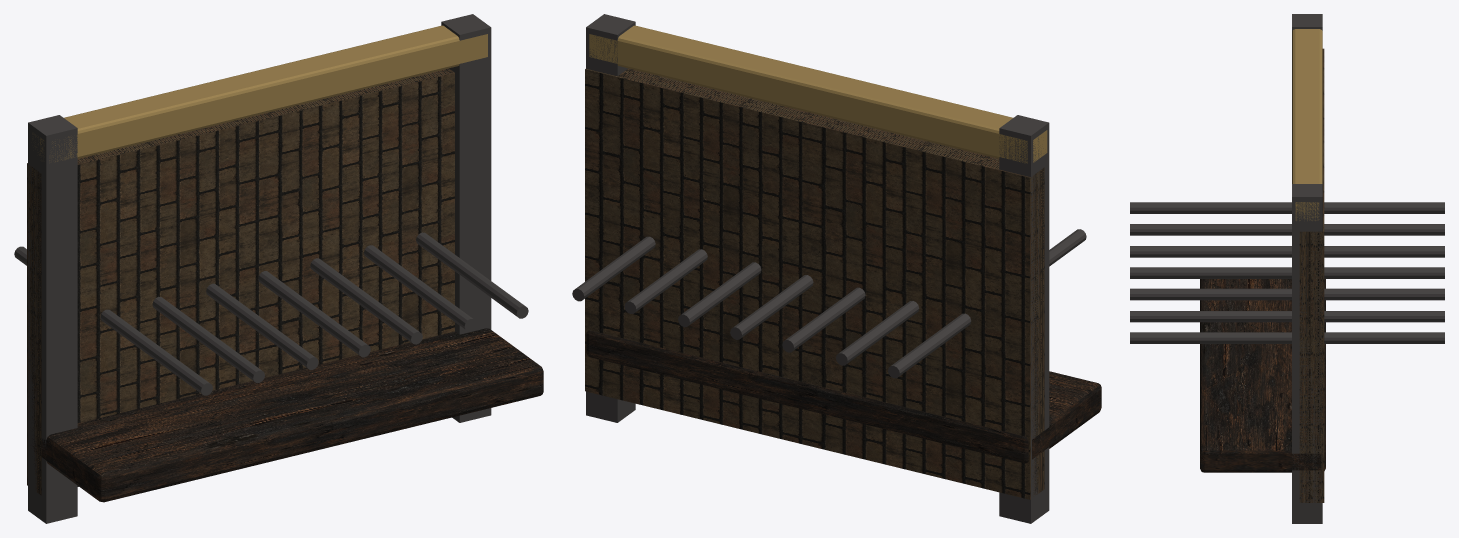
Rendered from room_order_window.glb.
The picture shows the model from 3 angles, left to right: view 1: azimuth 30°, elevation 25°; view 2: azimuth 150°, elevation 25°; view 3: azimuth 270°, elevation 25°; orthographic projection. The views are drawn at different scales.
Visible parts, largest first — view 1: room_order_window; view 2: room_order_window; view 3: room_order_window.
Boxes of the visible parts, left/top/right/bottom form: room_order_window: left=14, top=14, right=543, bottom=523; room_order_window: left=572, top=14, right=1101, bottom=523; room_order_window: left=1130, top=14, right=1444, bottom=523.
Size of the model in its own units: 2.82 by 2.35 by 2.05.
Materials: 4 (2 with a texture image).
